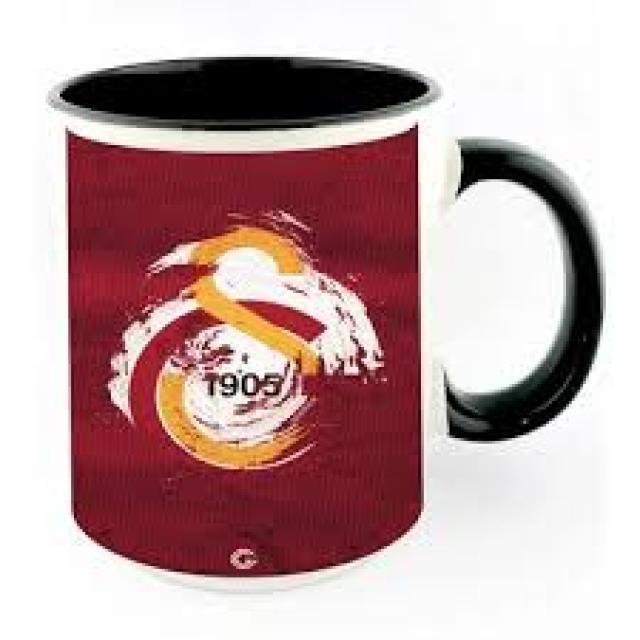taza: (47, 53, 605, 595)
